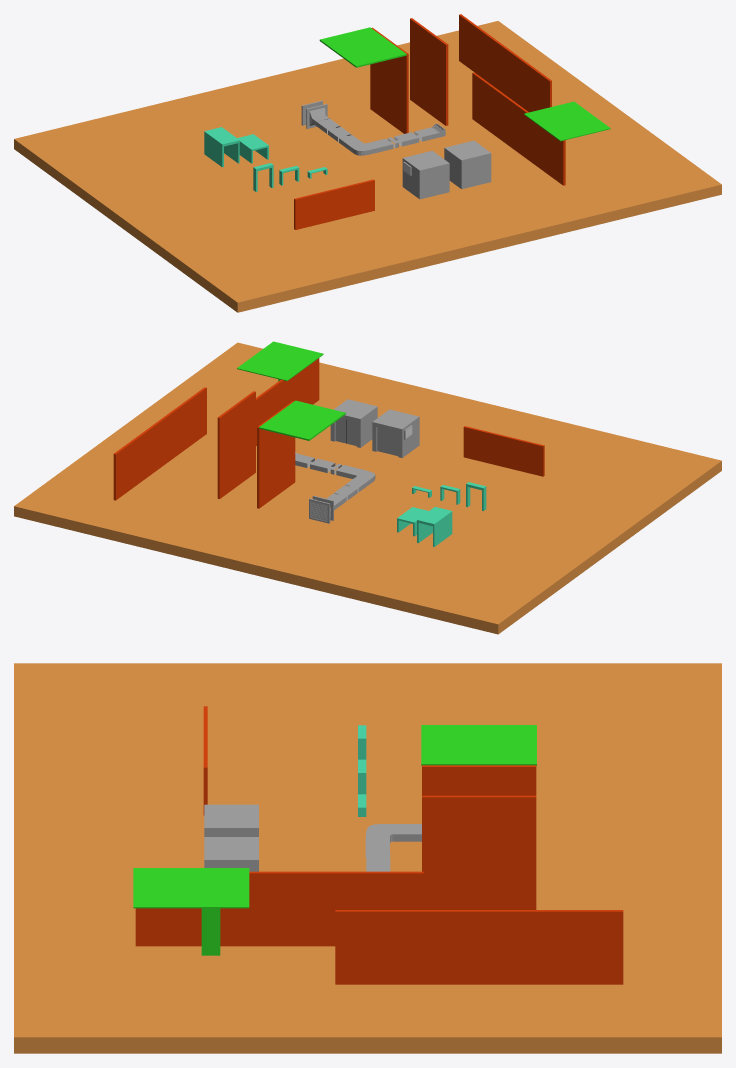
The model's file is roof.fbx.
3 views of the same model, one above another, from view 1: azimuth 30°, elevation 25°; view 2: azimuth 150°, elevation 25°; view 3: azimuth 270°, elevation 25° (orthographic). The views are drawn at different scales.
Visible parts, largest first — view 1: Cube, Wall Run 2, Wall Run 1, Cube.018, Wall, Cube.017, Cube.019, Platform, elevator 2, elevator, Cube.016, Cube.006 (+1 smaller); view 2: Cube, Wall Run 1, Cube.018, Wall, Cube.017, Wall Run 2, Cube.019, Platform, elevator 2, elevator, Cube.016, Cube.006; view 3: Cube, Wall Run 1, Wall Run 2, Cube.018, Platform, Cube.019, Cube.017, elevator 2, elevator, Cube.006.
Part boxes in pixels (x1,y1,x2,y2): Cube: (14, 21, 721, 312); Wall Run 2: (472, 72, 565, 185); Wall Run 1: (459, 14, 551, 112); Cube.018: (410, 18, 448, 125); Wall: (294, 179, 374, 229); Cube.017: (370, 27, 408, 133); Cube.019: (319, 27, 406, 67); Platform: (524, 101, 610, 141); elevator 2: (402, 150, 449, 199); elevator: (444, 140, 491, 189); Cube.016: (204, 127, 239, 167); Cube.006: (339, 135, 393, 155); Cube: (14, 342, 721, 634); Wall Run 1: (113, 387, 206, 500); Cube.018: (217, 391, 255, 498); Wall: (463, 426, 544, 476); Cube.017: (257, 401, 295, 508); Wall Run 2: (256, 358, 319, 445); Cube.019: (259, 400, 345, 440); Platform: (237, 341, 323, 381); elevator 2: (372, 409, 419, 457); elevator: (330, 399, 377, 447); Cube.016: (417, 507, 452, 546); Cube.006: (336, 465, 375, 492); Cube: (14, 663, 721, 1053); Wall Run 1: (335, 910, 623, 984); Wall Run 2: (135, 871, 423, 946); Cube.018: (422, 795, 536, 909); Platform: (133, 868, 249, 955); Cube.019: (421, 725, 536, 766); Cube.017: (422, 765, 536, 795); elevator 2: (204, 804, 258, 836); elevator: (204, 837, 258, 871); Cube.006: (365, 824, 421, 857).
Size of the model in its own units: 55.32 by 10.03 by 44.25.
